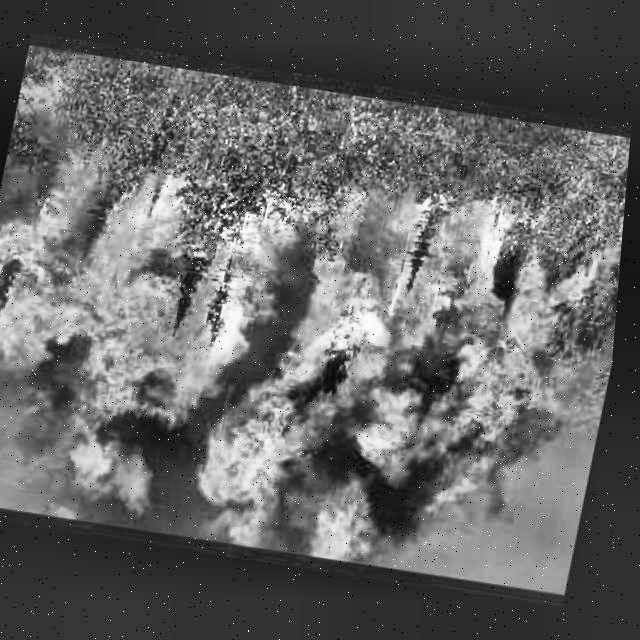Fire: (0, 127, 632, 588)
